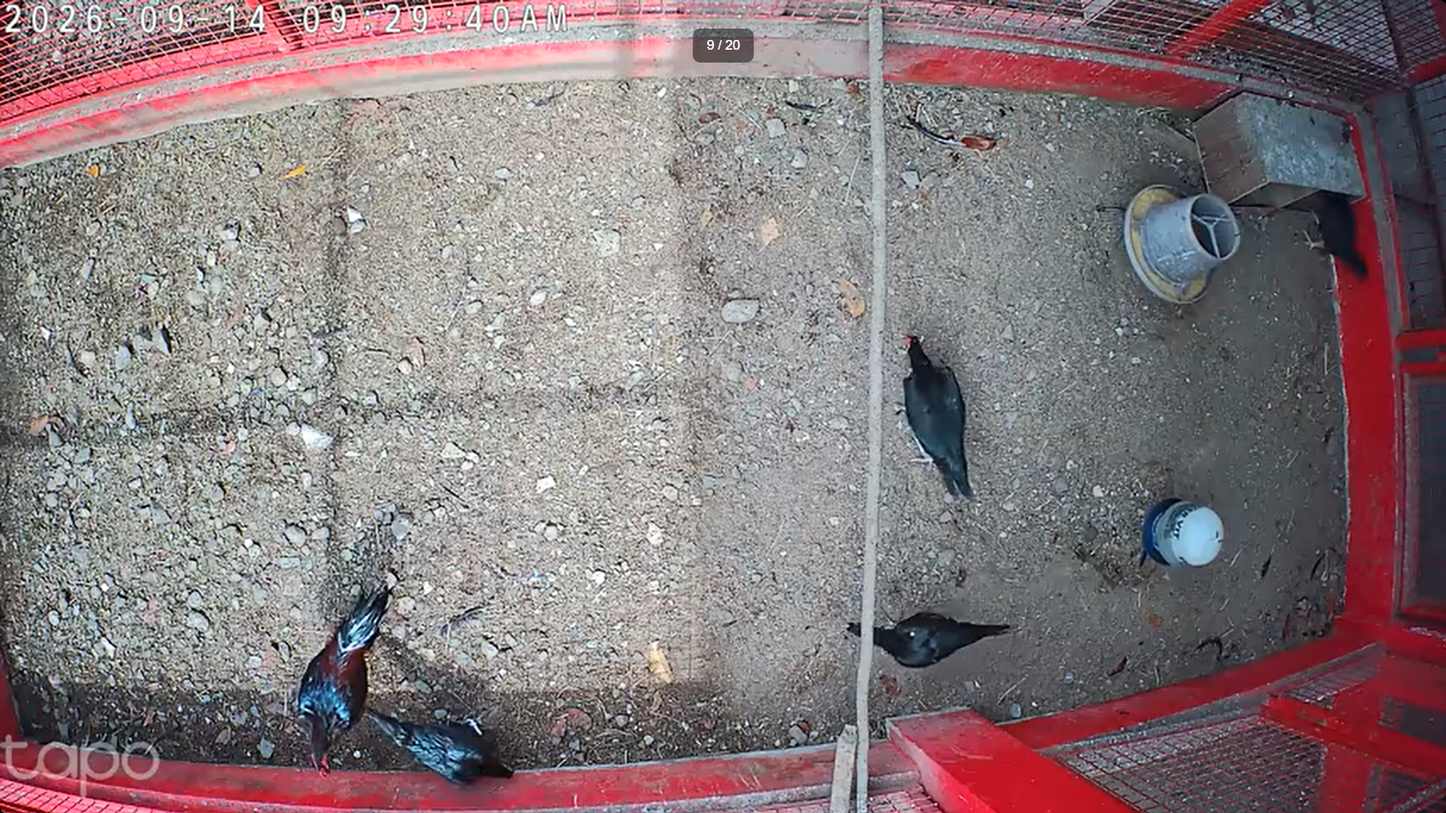Chicken: (901, 331, 980, 504), (839, 604, 1014, 675), (365, 707, 519, 786)
Rooster: (294, 571, 401, 788)
